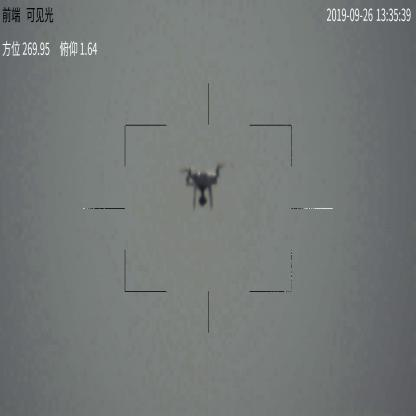uav: (178, 164, 227, 208)
